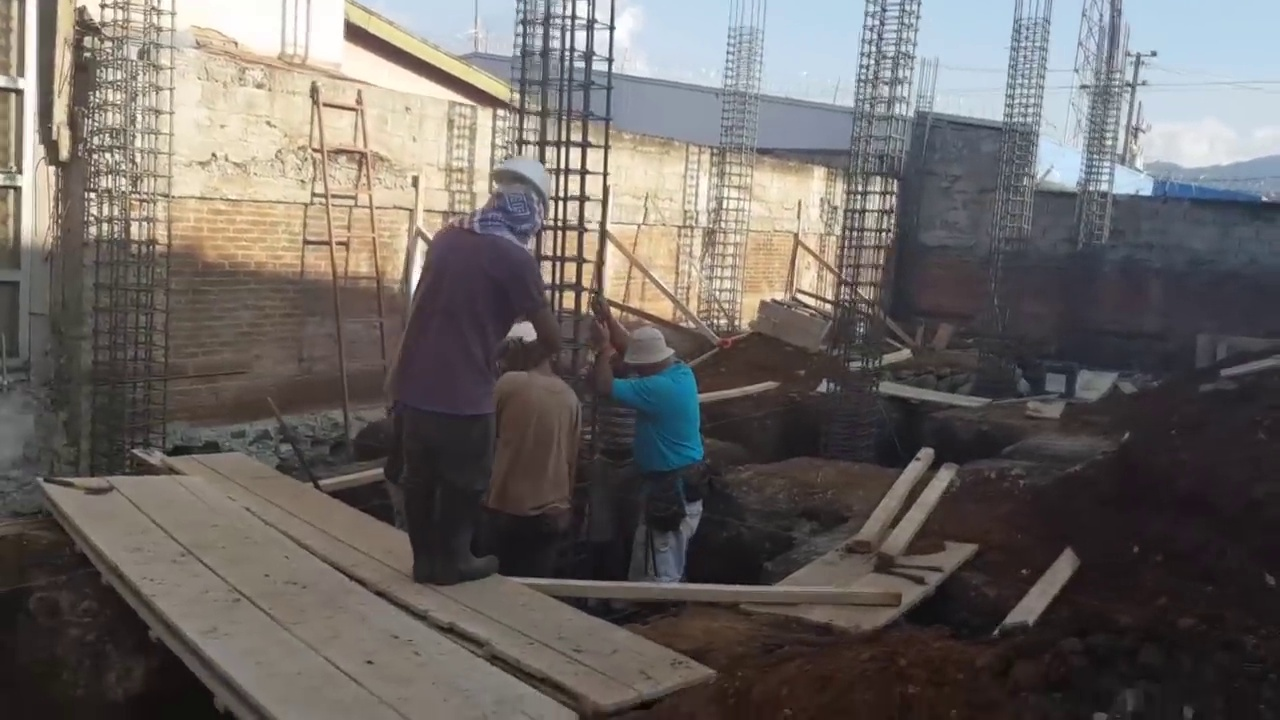helmet: (490, 156, 550, 206)
helmet-off: (613, 325, 673, 376)
helmet-on: (469, 150, 553, 239)
person: (387, 149, 579, 571), (599, 312, 709, 605), (477, 330, 584, 579)
